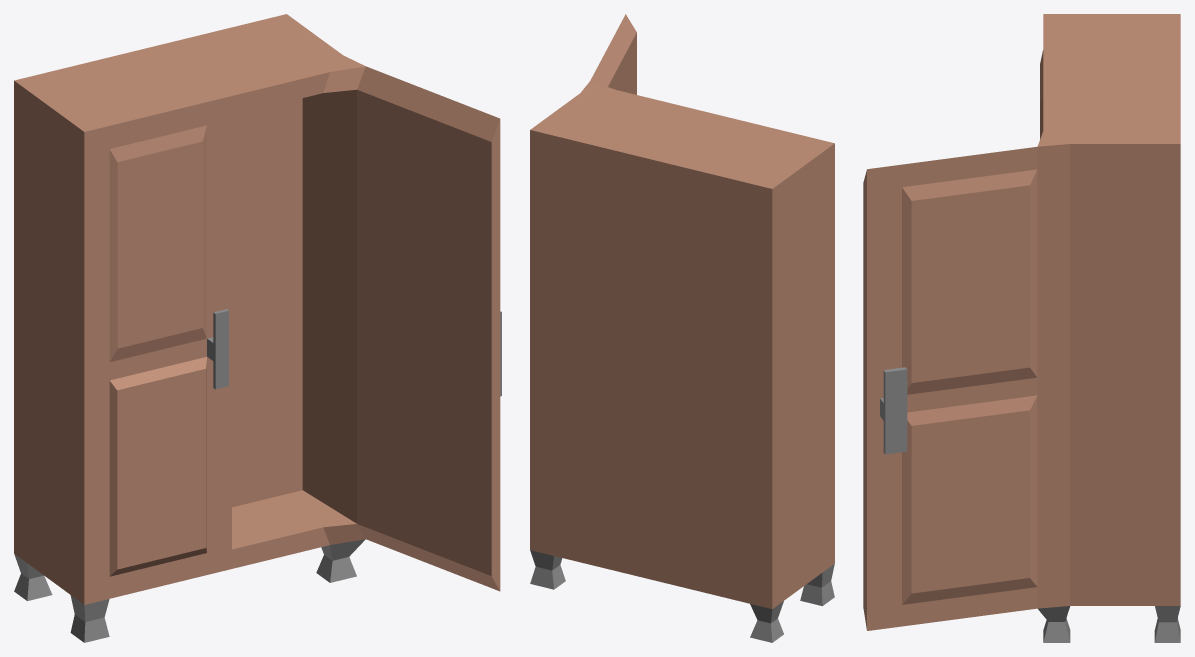
File: dolap.fbx
3 renders of one model, left to right at view 1: azimuth 30°, elevation 25°; view 2: azimuth 150°, elevation 25°; view 3: azimuth 270°, elevation 25°, orthographic. The views are drawn at different scales.
Parts seen in each view (by area): view 1: Cube.010; view 2: Cube.010; view 3: Cube.010.
Boxes of the visible parts, x1,y1,x2,y2 form: Cube.010: (14, 14, 501, 642); Cube.010: (530, 14, 834, 642); Cube.010: (863, 14, 1180, 642).
Bounding box in the file's own units: 553 × 802 × 462.
